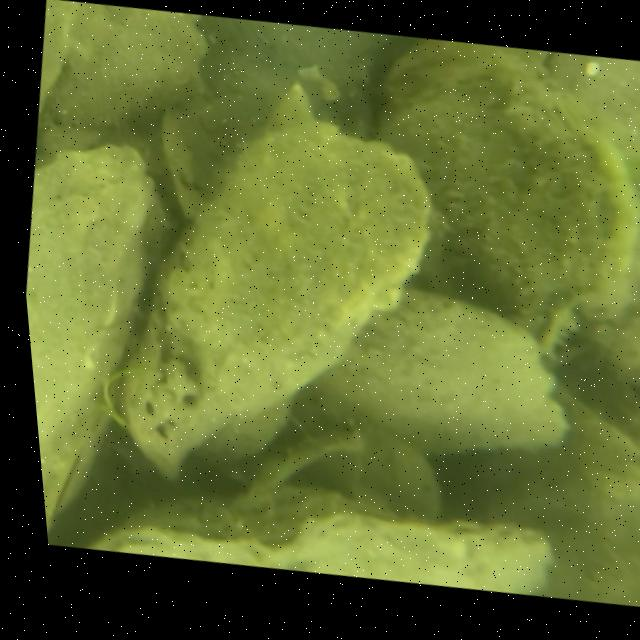Oyster-Indeterminate: (128, 125, 429, 483), (378, 43, 639, 310), (95, 494, 554, 597), (26, 146, 149, 528), (314, 290, 564, 452), (499, 46, 640, 227), (43, 2, 208, 125), (588, 229, 640, 378), (39, 0, 79, 112)
